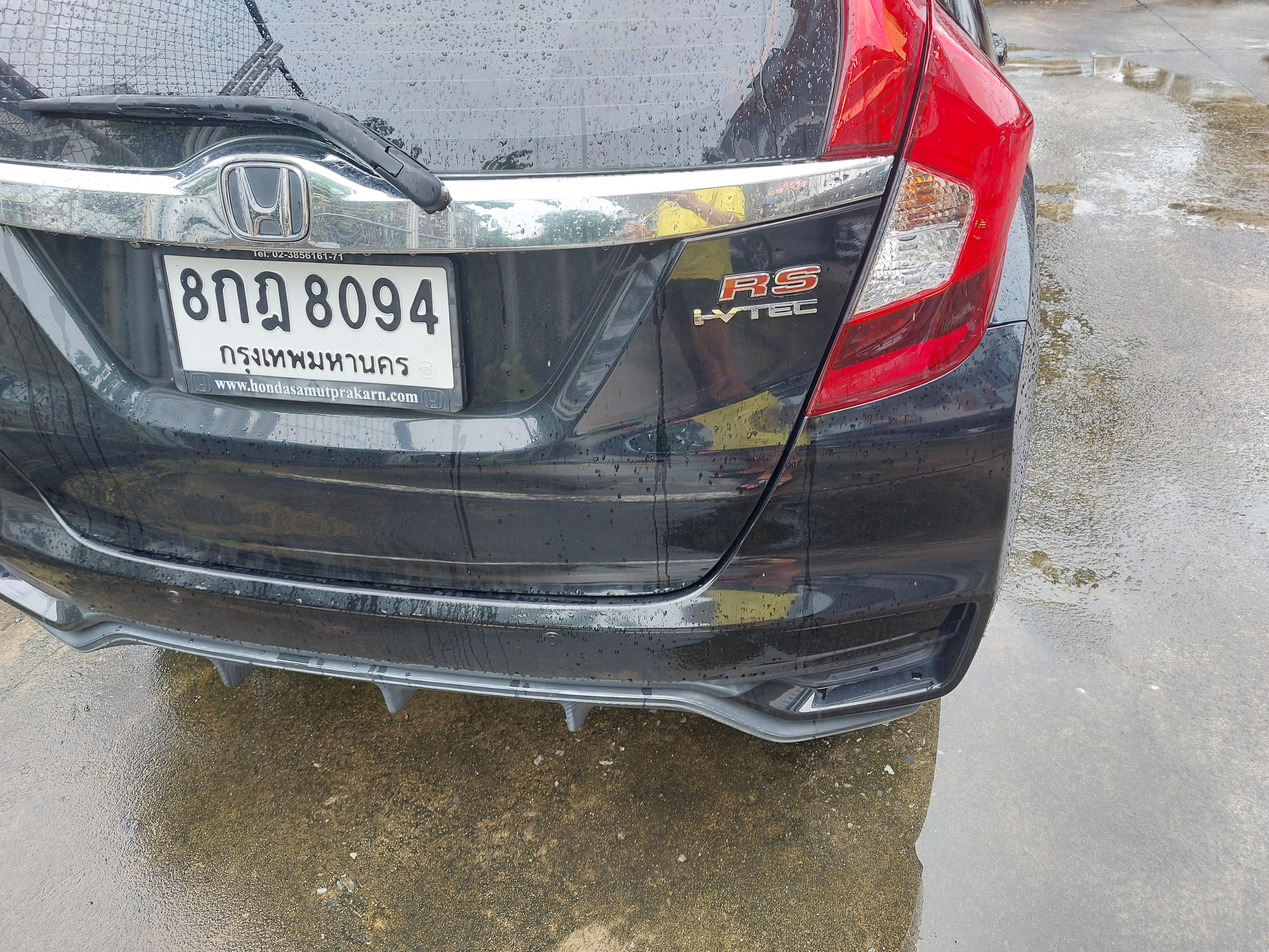license-plate: (150, 240, 467, 419)
